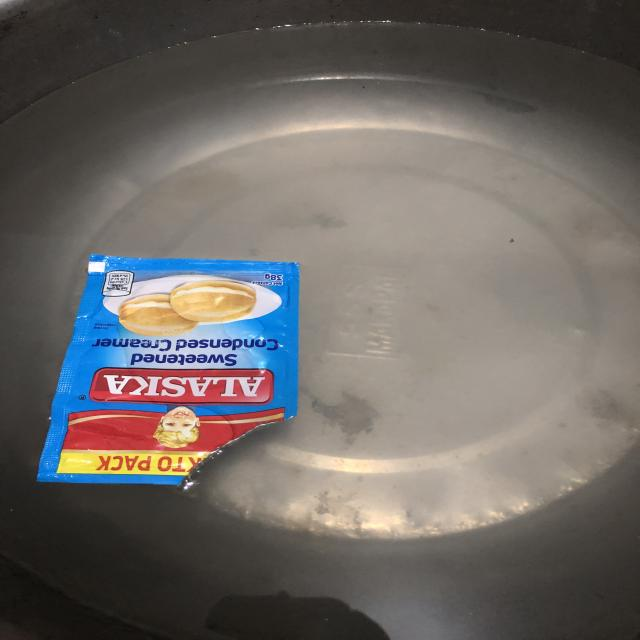Plastic Wrapper: (37, 255, 299, 485)
